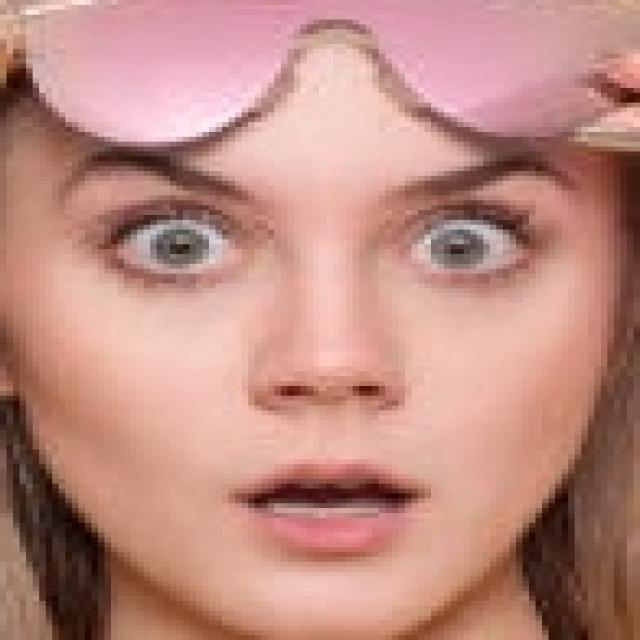Anxiety: (7, 135, 636, 635)
